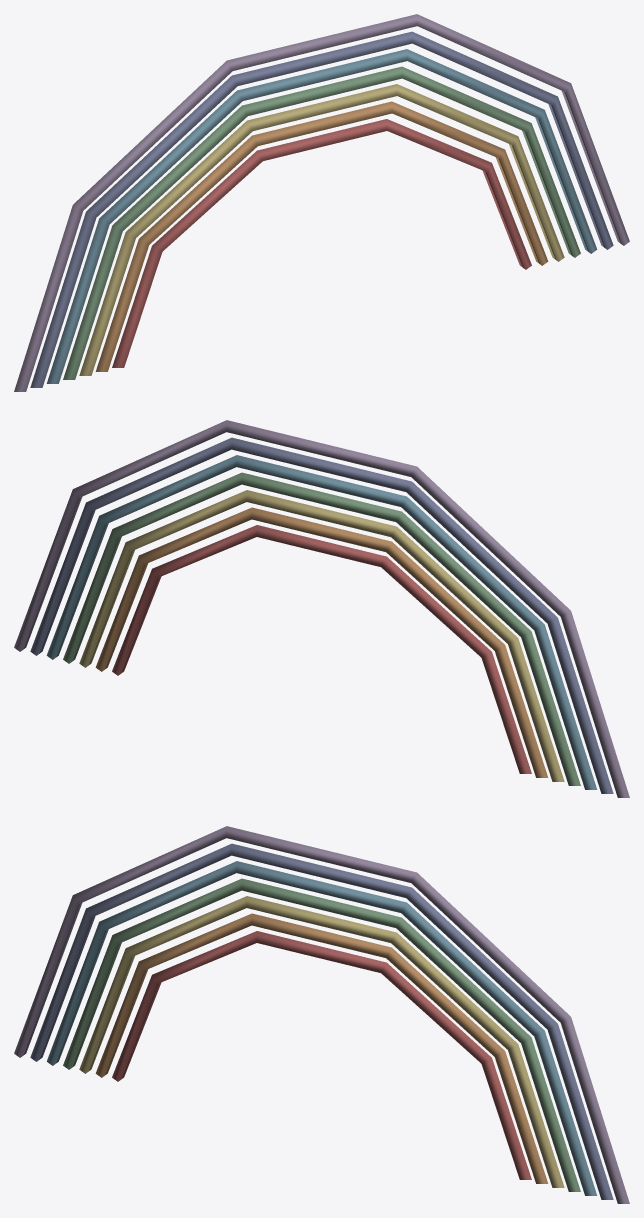
The model's file is wear_skybow.glb.
3 renders of one model, top to bottom at view 1: azimuth 30°, elevation 25°; view 2: azimuth 150°, elevation 25°; view 3: azimuth 330°, elevation 25°, orthographic.
Parts seen in each view (by area): view 1: Item; view 2: Item; view 3: Item.
Boxes of the visible parts, x1,y1,x2,y2 form: Item: (14, 14, 629, 391); Item: (14, 420, 629, 797); Item: (14, 826, 629, 1203).
Size of the model in its own units: 0.906 by 0.3928 by 0.0156.
